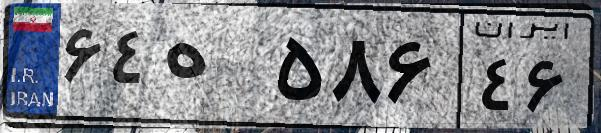4: (475, 38, 525, 113), (110, 28, 158, 98)
5: (270, 28, 330, 110)
6: (385, 28, 445, 110), (57, 26, 110, 100), (525, 38, 570, 115)
8: (330, 28, 385, 110)
ه: (158, 20, 270, 120)
